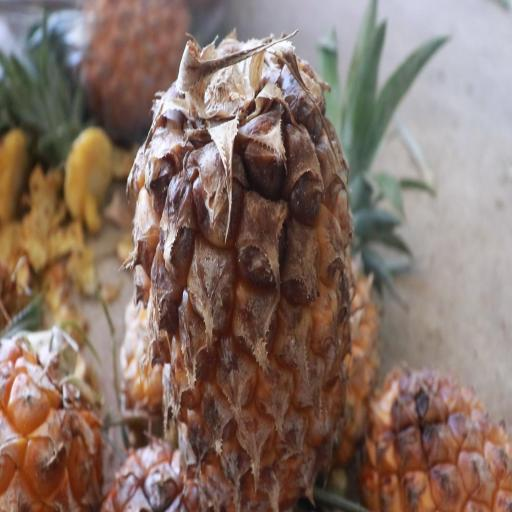Pineapple - v8 v1: (130, 20, 360, 512), (0, 324, 113, 512), (367, 369, 512, 512)
